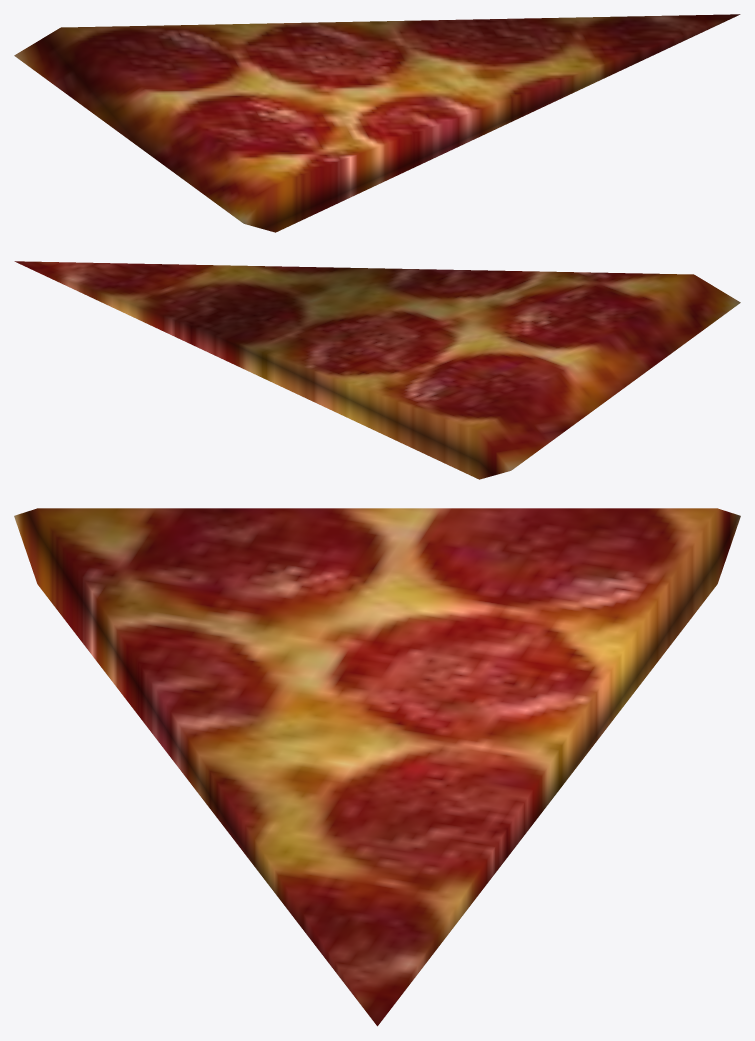
Rendered from Sliced_pizza.glb.
3 views of the same model, one above another, from view 1: azimuth 30°, elevation 25°; view 2: azimuth 150°, elevation 25°; view 3: azimuth 270°, elevation 25° (orthographic). The views are drawn at different scales.
Parts seen in each view (by area): view 1: Sliced_pizza; view 2: Sliced_pizza; view 3: Sliced_pizza.
Boxes of the visible parts, x1,y1,x2,y2 form: Sliced_pizza: (14, 14, 740, 232); Sliced_pizza: (14, 261, 740, 479); Sliced_pizza: (14, 508, 740, 1026).
Size of the model in its own units: 0.3338 by 0.025 by 0.2169.
Materials: 1 (1 with a texture image).
